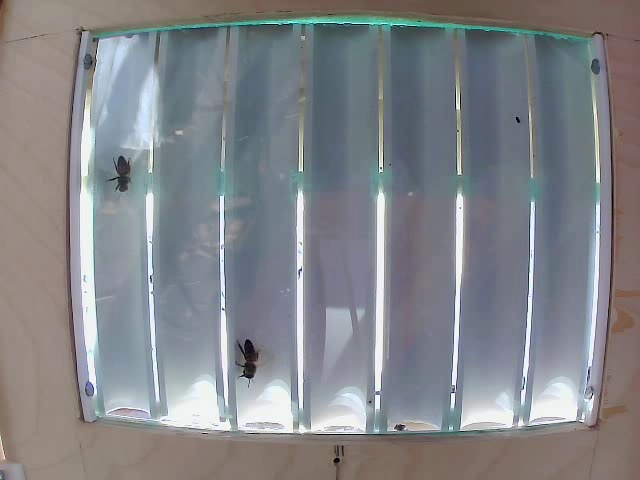bee: (231, 336, 273, 385), (109, 148, 143, 189)
